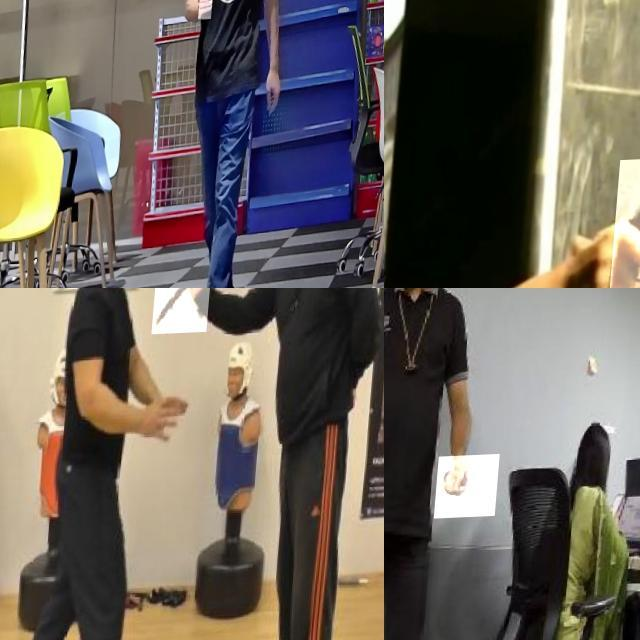-: (442, 458, 508, 522), (156, 288, 216, 336)
gun-knife-thesis - v11 Yolov5 augmented: (201, 0, 218, 28)
